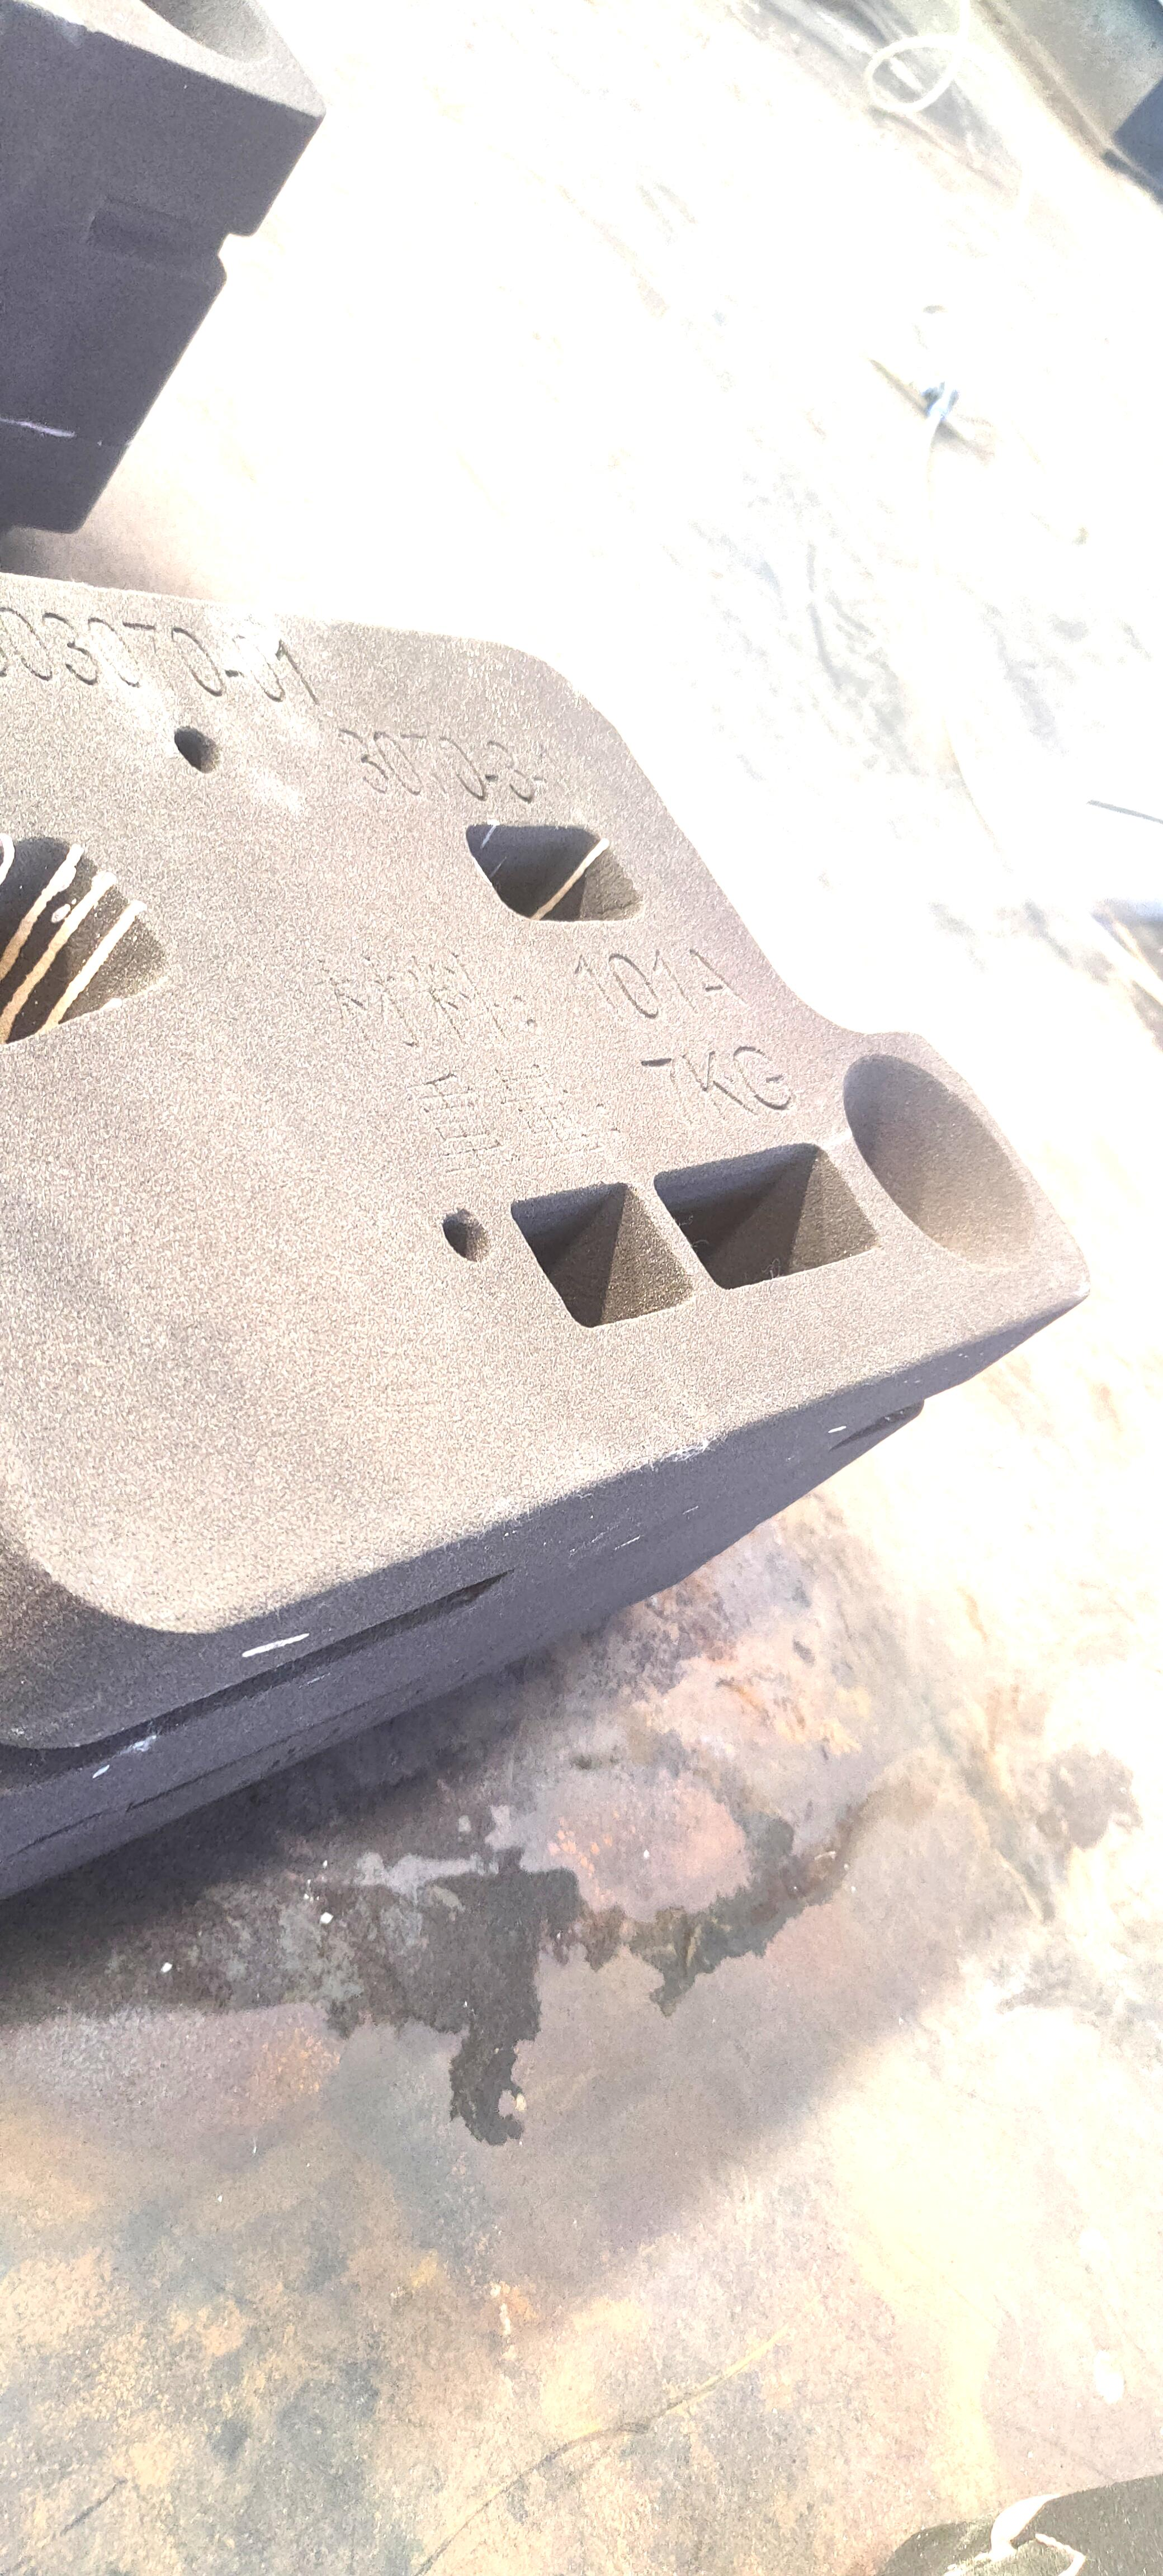pouring hole: (843, 1051, 1041, 1270), (136, 0, 276, 67)
